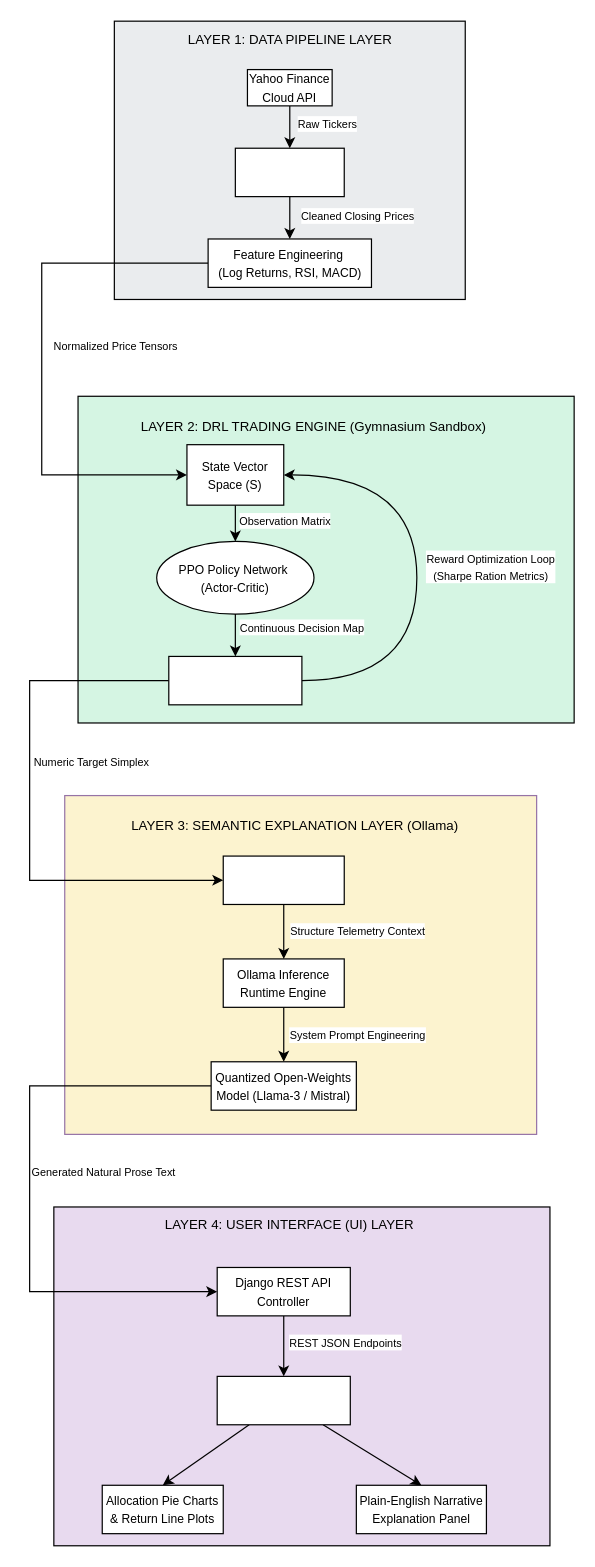
This 595x1567 diagram has some shape labels left out. The centre of each missing label's shape, as x and y in pixels:
Continuous Action Simplex (A: Weights): pixel 235 680
JSON Serialization Middleware: pixel 283 879
React.js Web Dashboard Application: pixel 283 1400
yfinance Ingestion Engine: pixel 289 172
